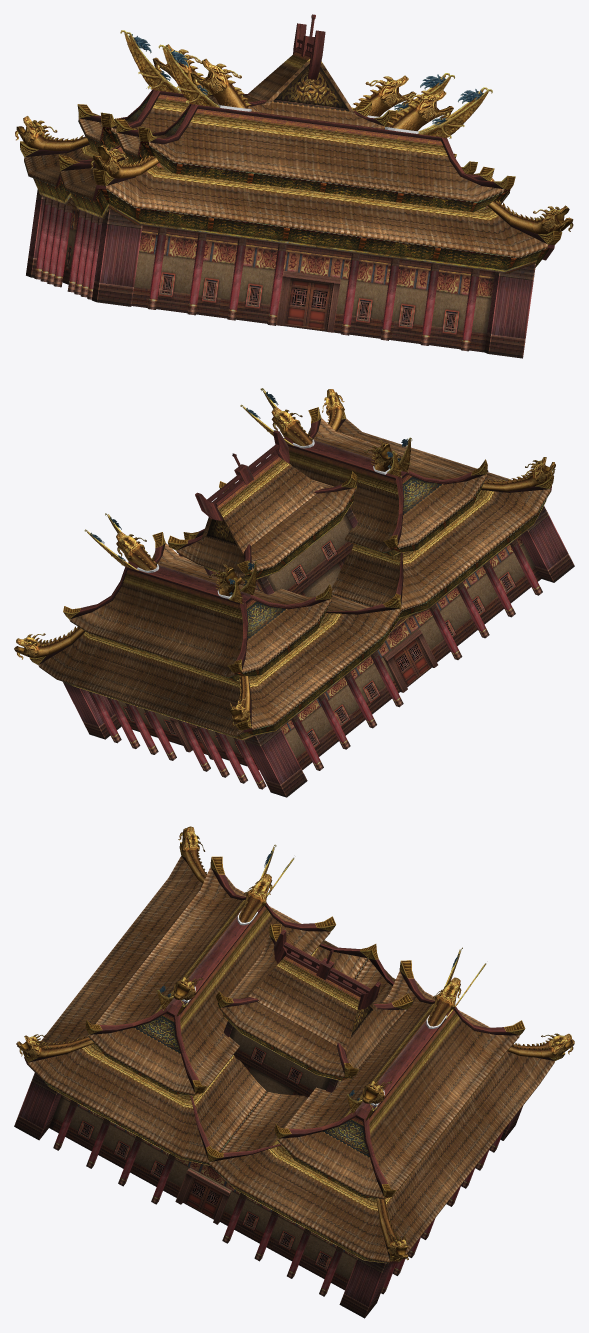
Rendered from mainbuilding.fbx.
3 renders of one model, top to bottom at view 1: azimuth 30°, elevation 25°; view 2: azimuth 150°, elevation 25°; view 3: azimuth 270°, elevation 25°, orthographic. The views are drawn at different scales.
Parts seen in each view (by area): view 1: Object02, Object01, Object03; view 2: Object02, Object01, Object03; view 3: Object02, Object01, Object03.
Part boxes in pixels (x1=…): Object02: x1=20, y1=14, x2=562, y2=273; Object01: x1=26, y1=189, x2=535, y2=358; Object03: x1=15, y1=44, x2=573, y2=234; Object02: x1=29, y1=388, x2=553, y2=740; Object01: x1=63, y1=506, x2=574, y2=797; Object03: x1=14, y1=389, x2=555, y2=726; Object02: x1=22, y1=842, x2=565, y2=1263; Object01: x1=14, y1=1021, x2=522, y2=1318; Object03: x1=16, y1=826, x2=574, y2=1260.
Size of the model in its own units: 36.09 by 39.05 by 25.92.
Materials: 3 (3 with a texture image).
